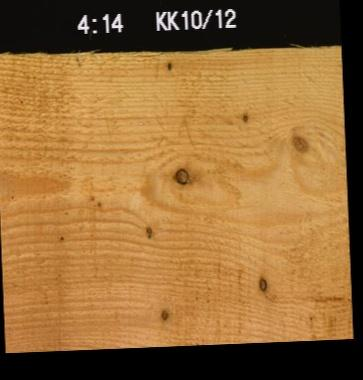dry_knot: (255, 273, 267, 291)
small_knot: (141, 221, 154, 241), (157, 303, 168, 321), (237, 110, 249, 123), (163, 57, 173, 71), (55, 230, 65, 242), (93, 196, 103, 208)
sound_knot: (288, 132, 309, 152)
